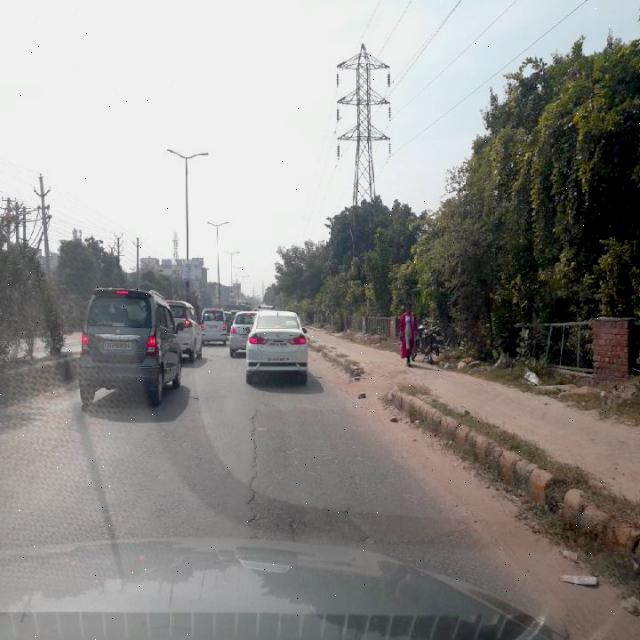D00: (239, 394, 279, 538), (334, 496, 379, 541)
